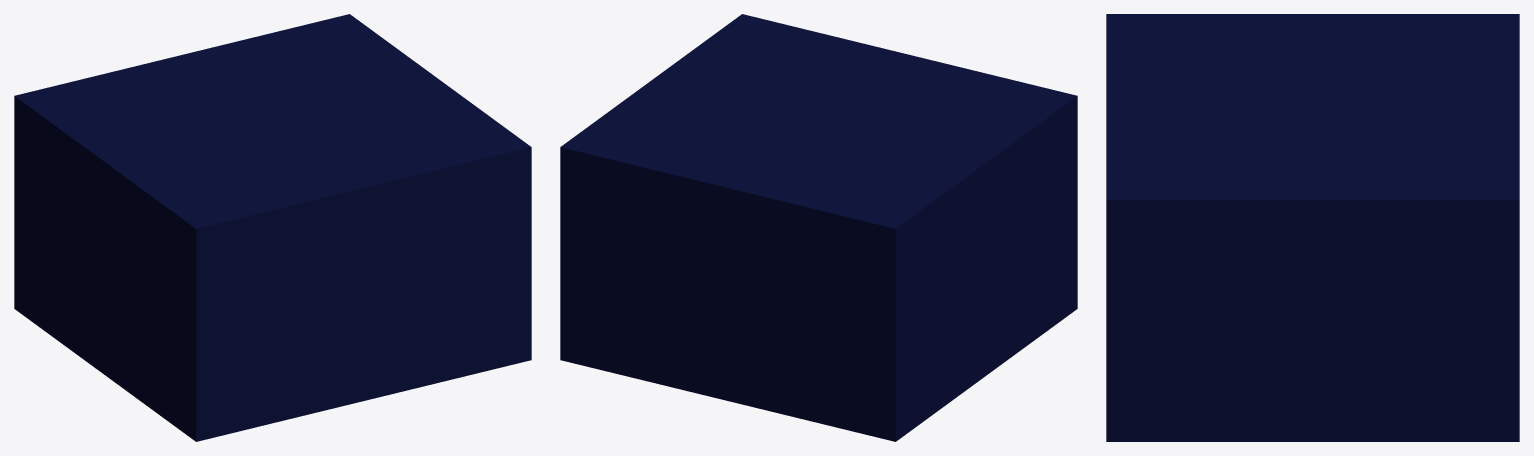
Rendered from enclosed_fbx.fbx.
3 renders of one model, left to right at view 1: azimuth 30°, elevation 25°; view 2: azimuth 150°, elevation 25°; view 3: azimuth 270°, elevation 25°, orthographic. The views are drawn at different scales.
Parts seen in each view (by area): view 1: Cube; view 2: Cube; view 3: Cube.
Part boxes in pixels (bbox=[...]): Cube: bbox=[14, 14, 531, 441]; Cube: bbox=[560, 14, 1077, 441]; Cube: bbox=[1106, 14, 1519, 441].
Size of the model in its own units: 1586 by 963 by 1490.
